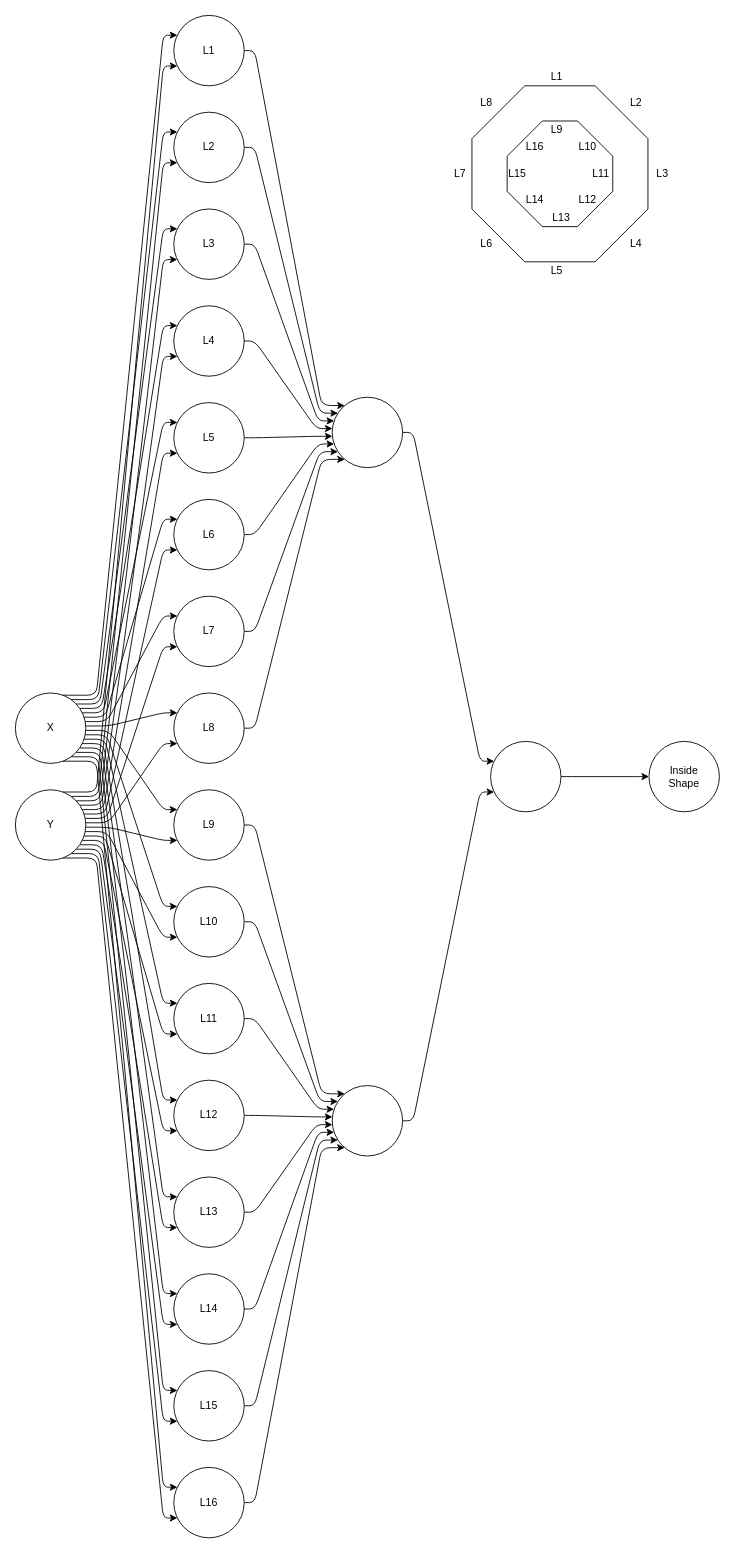
Image size: 735x1553. Some labels were removed from this diagram. Here are the shapes that lost their labels. From the top down, the centre of each, then its label:
point (367, 432): AND A
point (525, 776): A AND Not B
point (367, 1120): AND B
